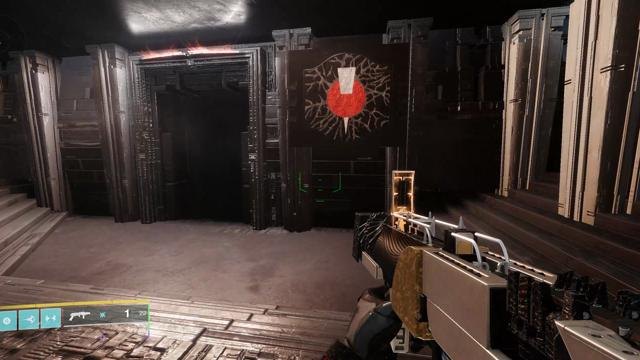kill: (303, 51, 392, 142)
